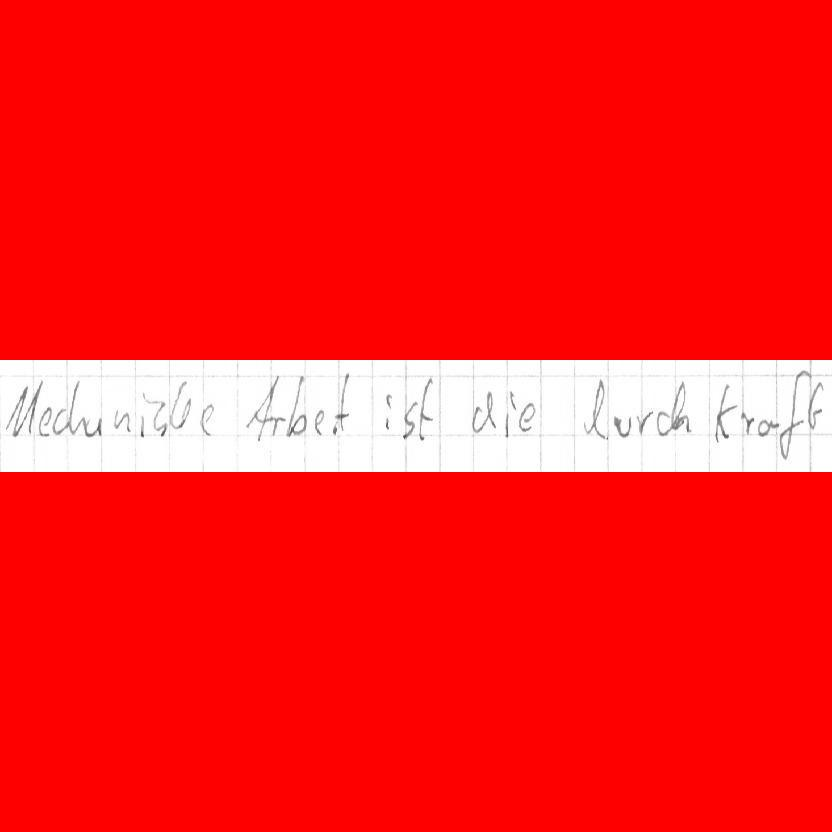Char: (777, 367, 811, 460), (245, 375, 279, 444), (3, 377, 43, 435), (581, 377, 609, 442), (710, 382, 738, 444), (471, 387, 499, 435), (416, 374, 436, 441), (286, 375, 307, 438), (670, 380, 694, 435), (804, 380, 824, 431), (68, 376, 83, 435), (501, 390, 517, 441), (339, 371, 352, 432), (151, 399, 169, 440), (400, 399, 418, 440), (197, 400, 216, 437), (35, 405, 53, 441), (517, 400, 535, 434), (735, 409, 755, 437), (50, 404, 68, 435), (756, 415, 780, 438), (266, 412, 287, 438), (635, 409, 653, 438), (612, 414, 632, 440), (138, 389, 147, 440), (113, 408, 131, 433), (382, 392, 393, 432), (83, 415, 102, 438), (312, 407, 326, 438), (656, 408, 670, 436), (329, 411, 341, 436)
